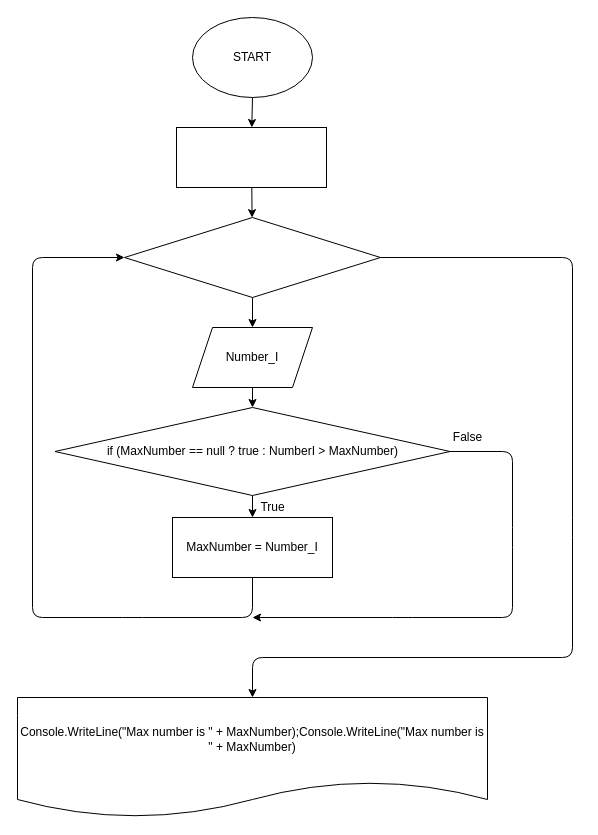
The diagram is 598 pixels wide and 835 high, and some of its shapes have lost their labels. The centre of each missing label's shape, as x and y in pixels:
for i = 1; i <= AmountNumber ; i++: (x=252, y=257)
int MaxNumber; int AmountNumber = 3;: (x=251, y=157)
